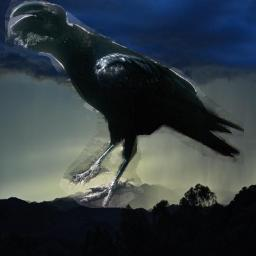Crow: (5, 0, 244, 208)
